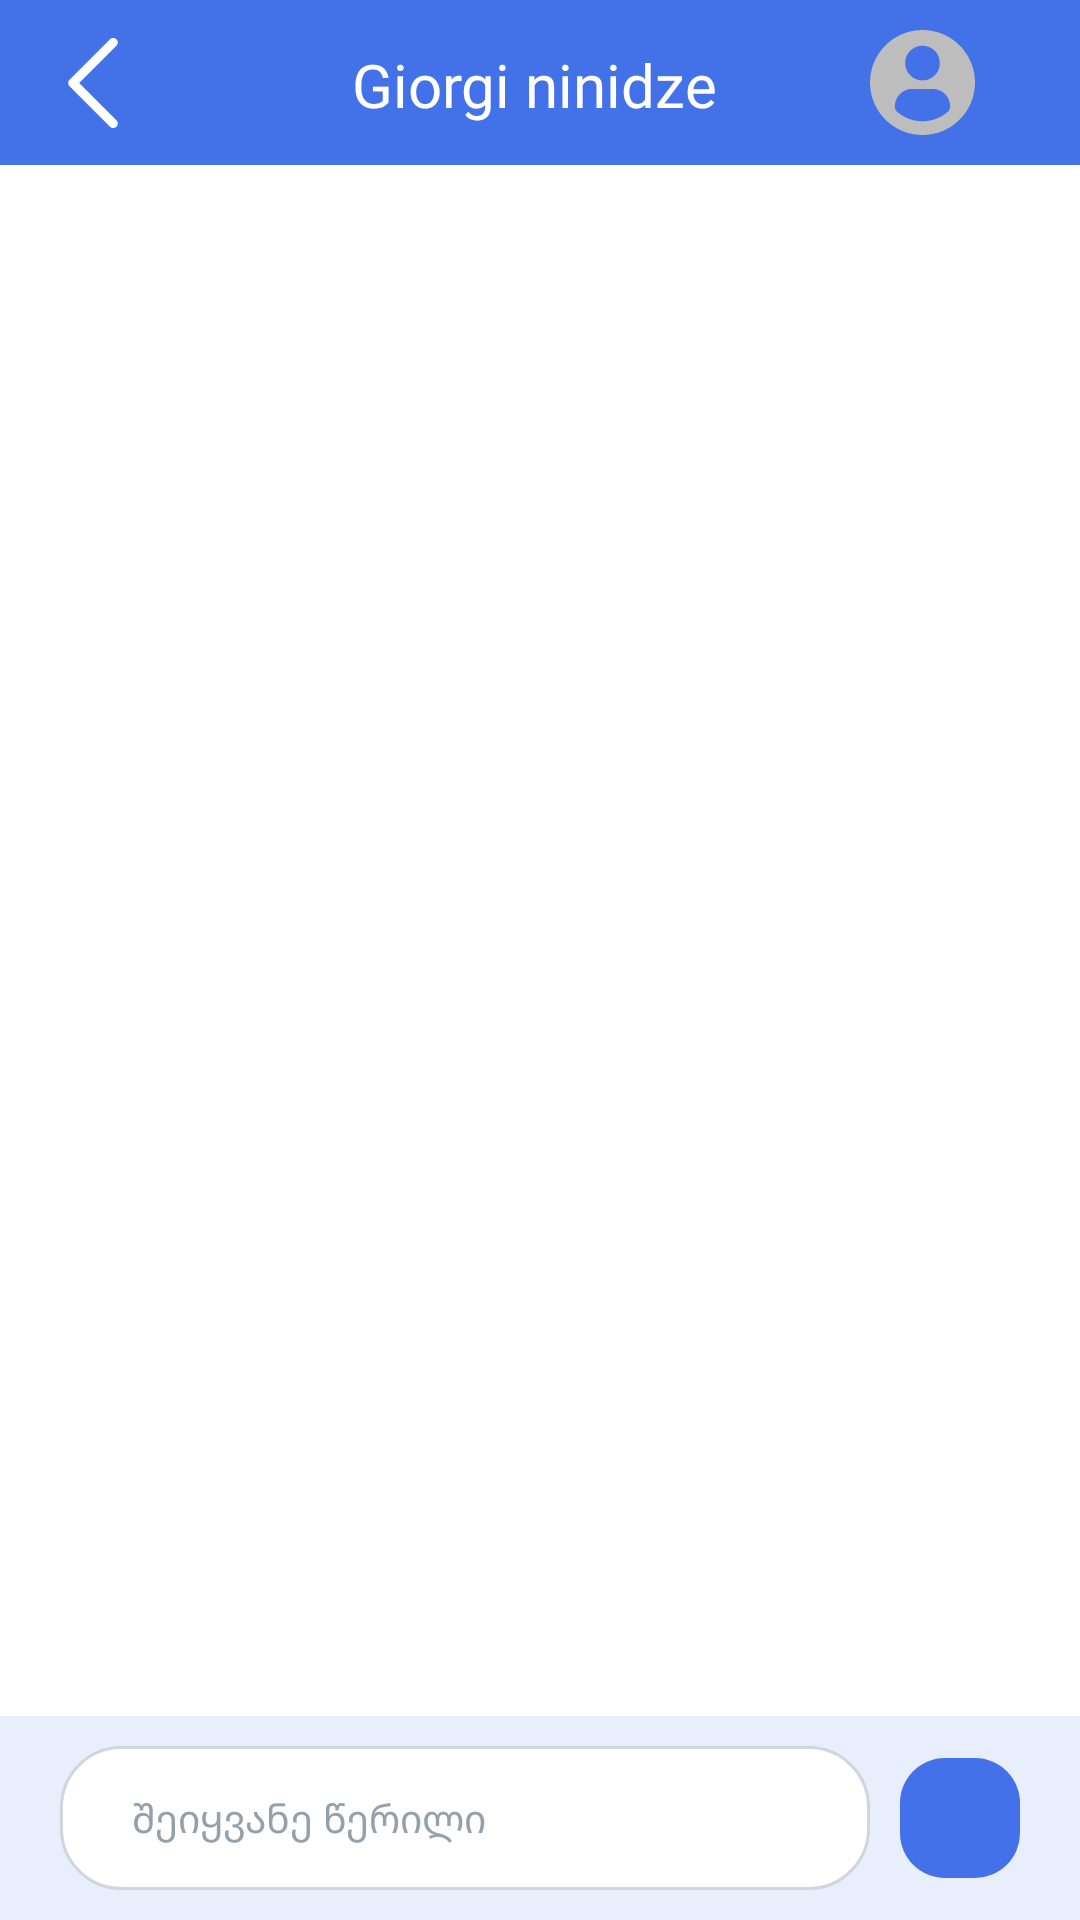

Where to tap for icons on this 1080×1920 app screen, as (x,y):
back: (93,83)
profile user: (922,82)
